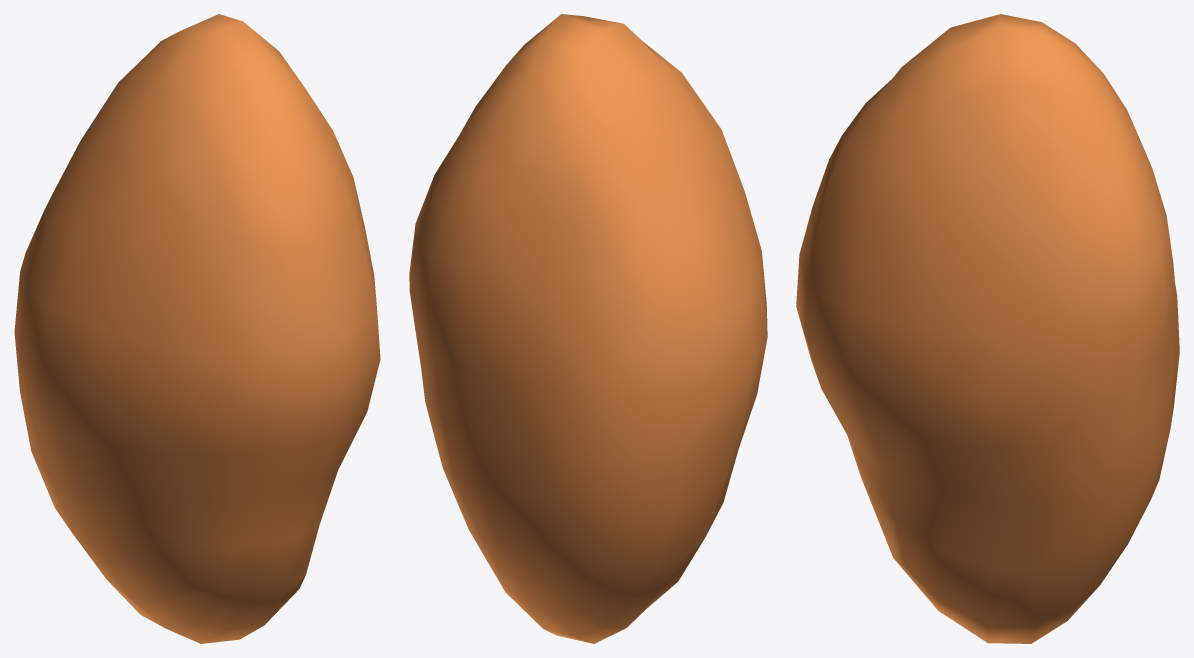
File: MeshPotatoA4_0.obj
3 renders of one model, left to right at view 1: azimuth 30°, elevation 25°; view 2: azimuth 150°, elevation 25°; view 3: azimuth 270°, elevation 25°, orthographic. The views are drawn at different scales.
Parts seen in each view (by area): view 1: PotatoA4; view 2: PotatoA4; view 3: PotatoA4.
Part boxes in pixels (<box>): PotatoA4: <box>14,14,380,643</box>; PotatoA4: <box>409,14,767,643</box>; PotatoA4: <box>796,14,1179,643</box>.
Bounding box in the file's own units: 0.0605 × 0.1152 × 0.0645.
